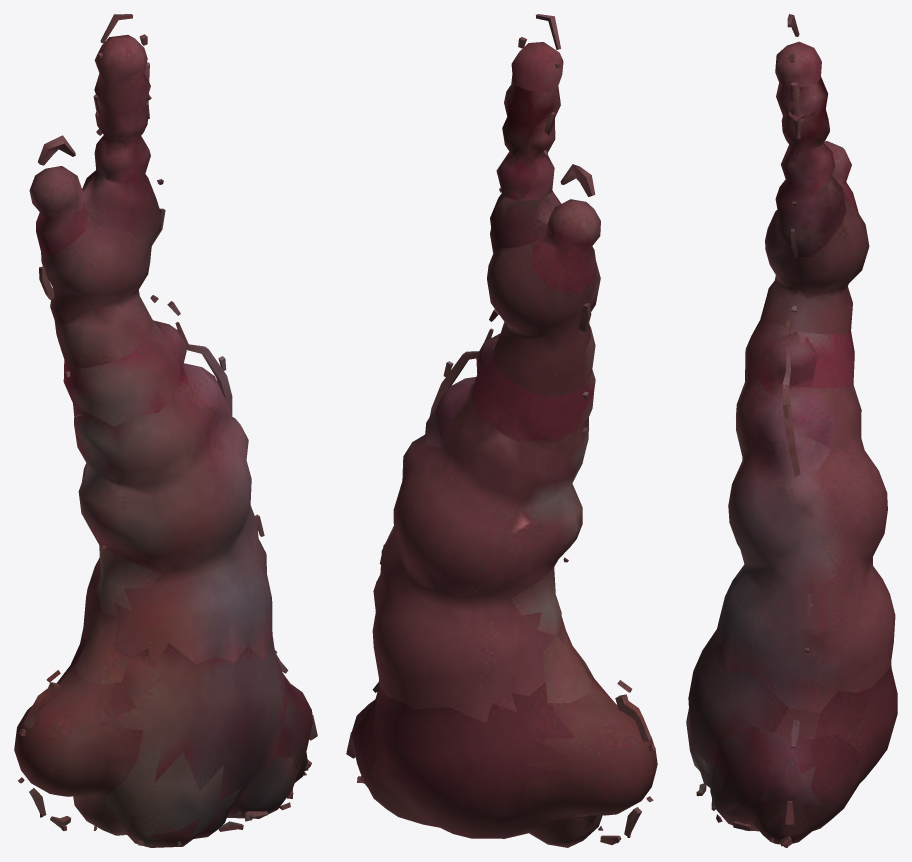
Rendered from lickmaw.glb.
The picture shows the model from 3 angles, left to right: view 1: azimuth 30°, elevation 25°; view 2: azimuth 150°, elevation 25°; view 3: azimuth 270°, elevation 25°; orthographic projection. The views are drawn at different scales.
Parts seen in each view (by area): view 1: body; view 2: body; view 3: body.
Part boxes in pixels (x1,y1,x2,y2): body: (14,14,317,847); body: (346,14,657,847); body: (686,14,897,847).
Size of the model in its own units: 2.01 by 5.24 by 1.32.
1 material, 1 textured.
